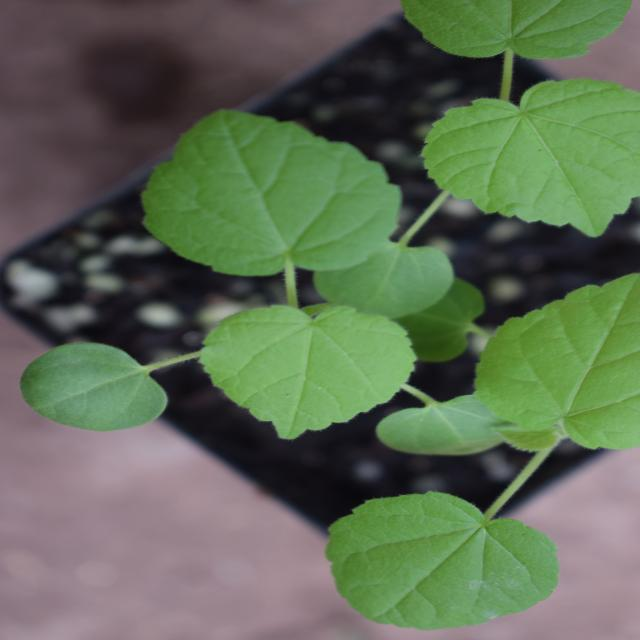abutilon theophrasti: (91, 88, 485, 616)
